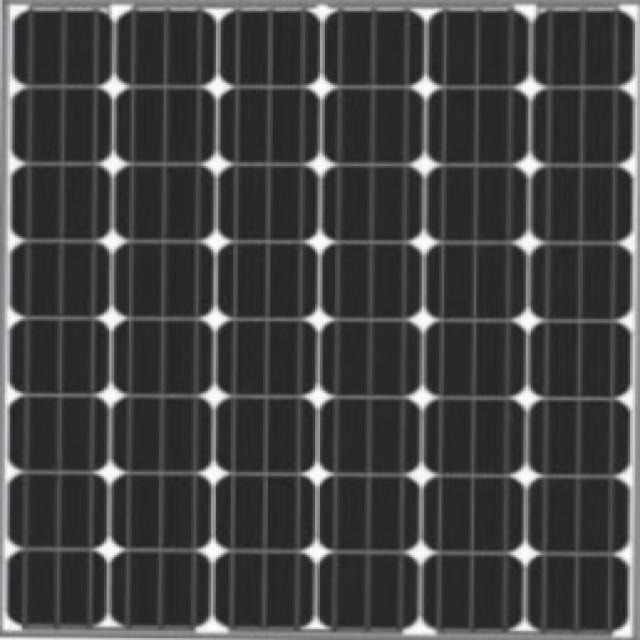clean-solar-panel: (8, 9, 625, 631)
